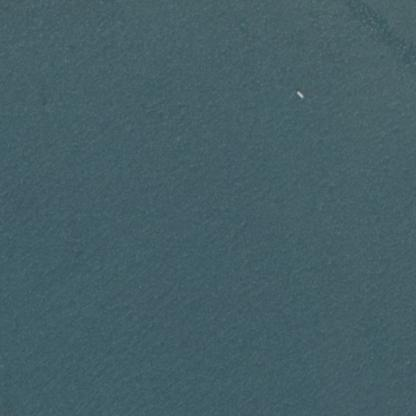ship: (290, 84, 309, 102)
